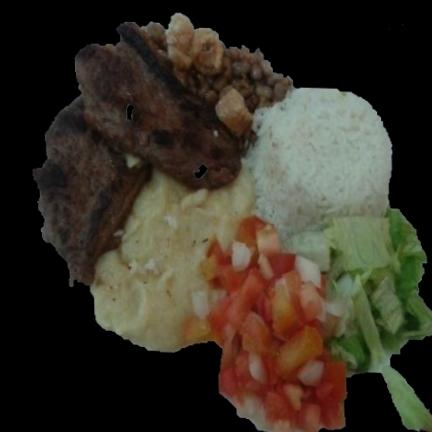meat: (34, 15, 291, 285)
potato: (91, 168, 255, 352)
rice: (245, 88, 392, 241)
salad: (295, 209, 431, 374)
tomato: (189, 216, 346, 431)
